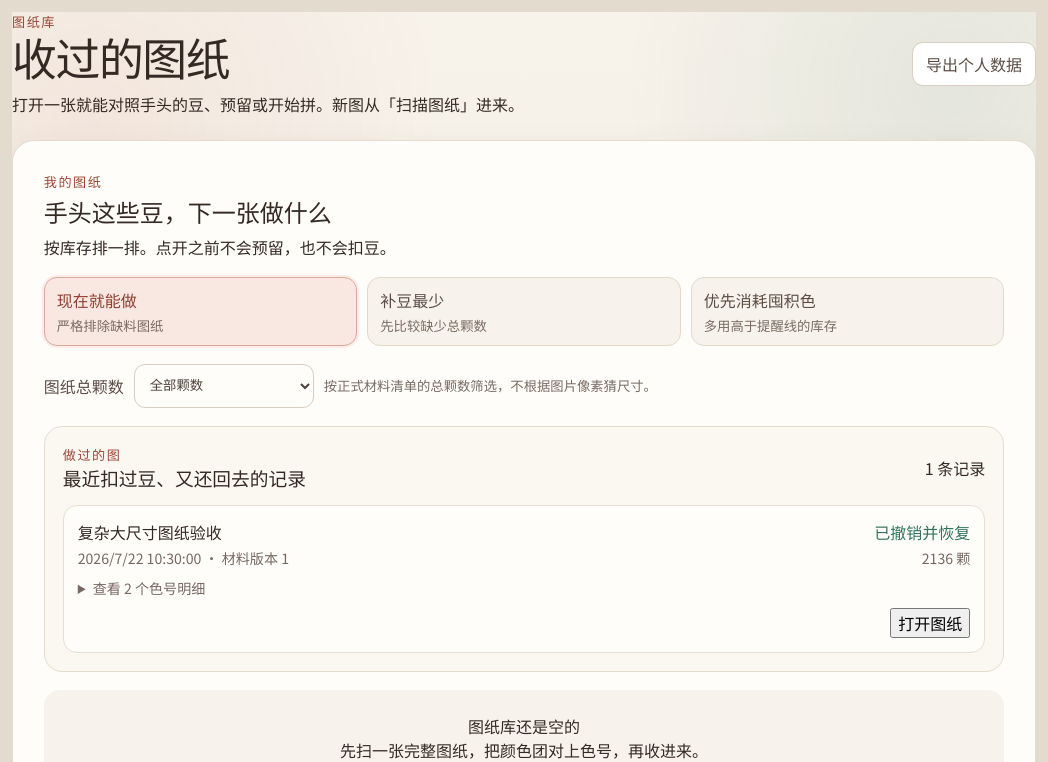
PatternLibraryPage › renders a real-size reverted production record with color details
Expected: the element named "制作与库存变动历史" shows "复杂大尺寸图纸验收", [78,520,222,544]
Expected: the element named "制作与库存变动历史" shows "已撤销并恢复", [874,520,970,544]
Click the heading "查看 2 个色号明细" at (149, 588), box [93,578,205,598]
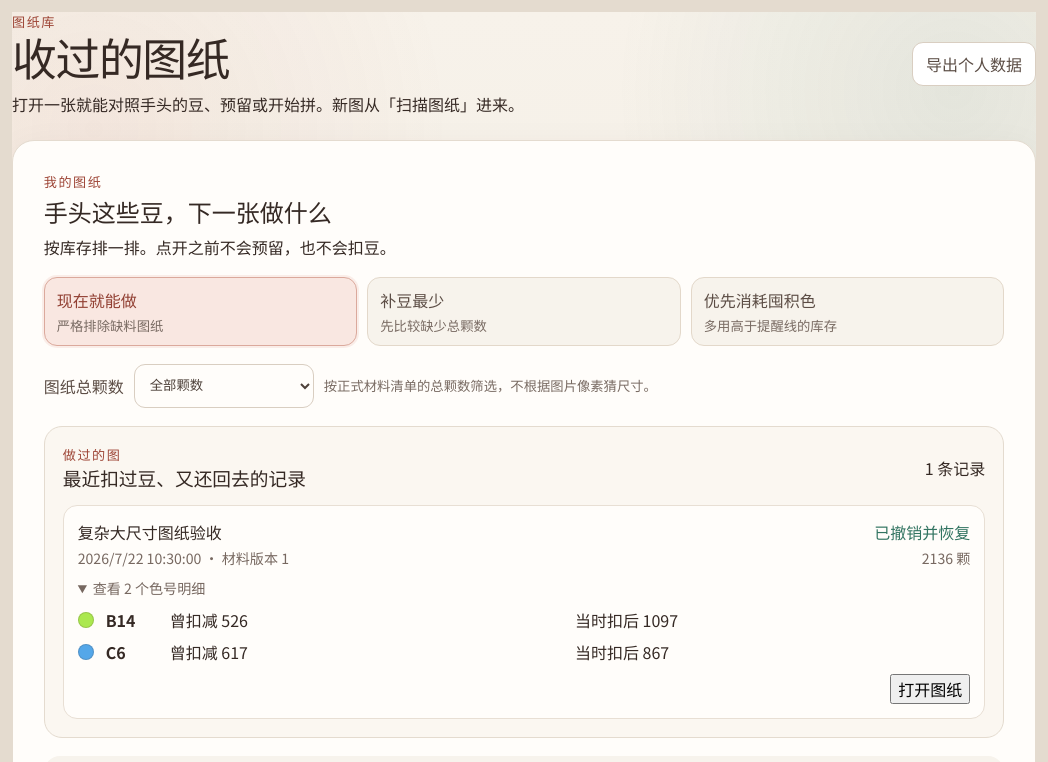
Result: the element named "制作与库存变动历史" shows "B14" at [106,608,136,632]
Result: the element named "制作与库存变动历史" shows "曾扣减 526" at [44,426,1004,738]
